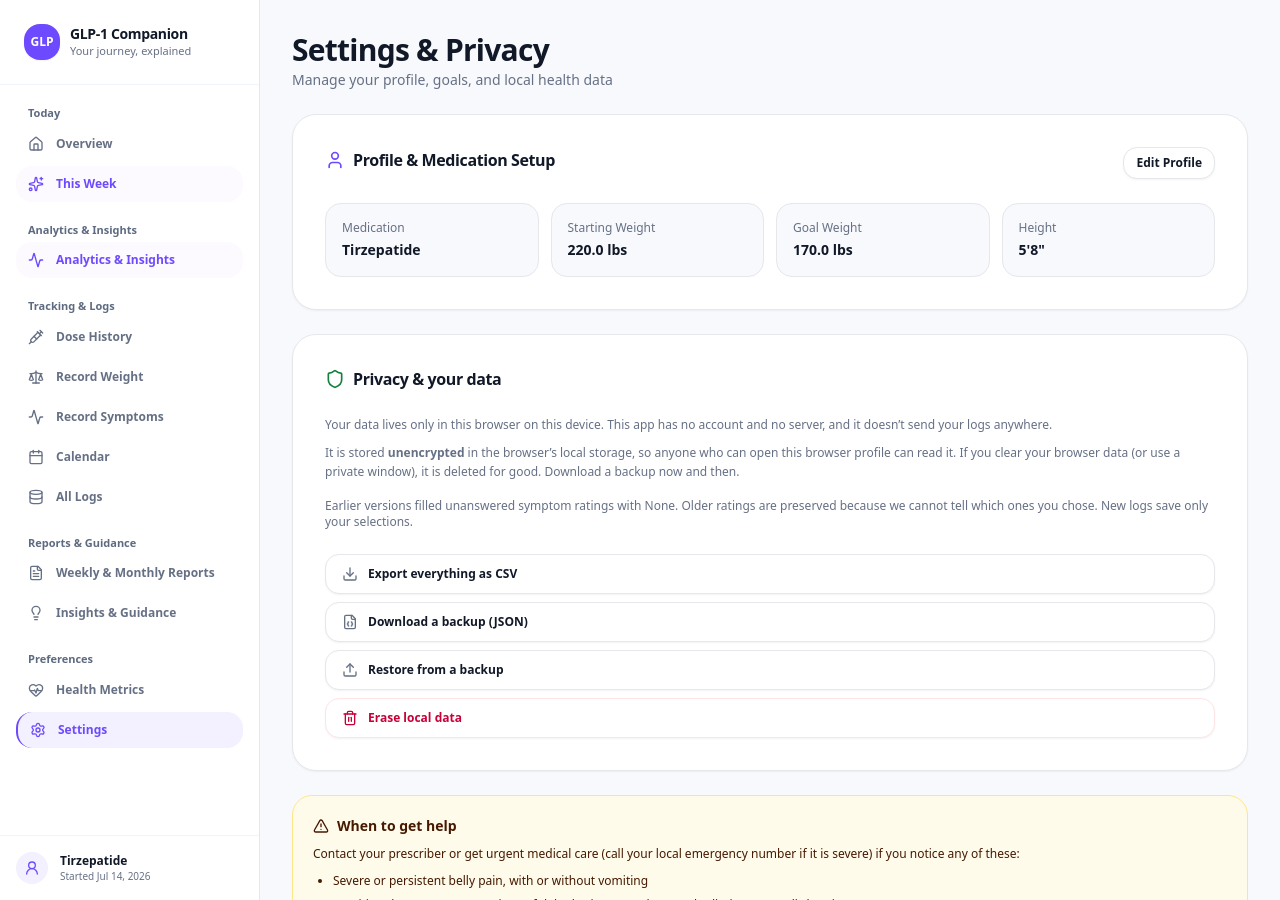
it: erase data › asks for confirmation, then returns to onboarding with empty arrays and cleared storage
Step 1. Click the button "Erase local data" → (415, 717), box left=325, top=698, right=1215, bottom=738
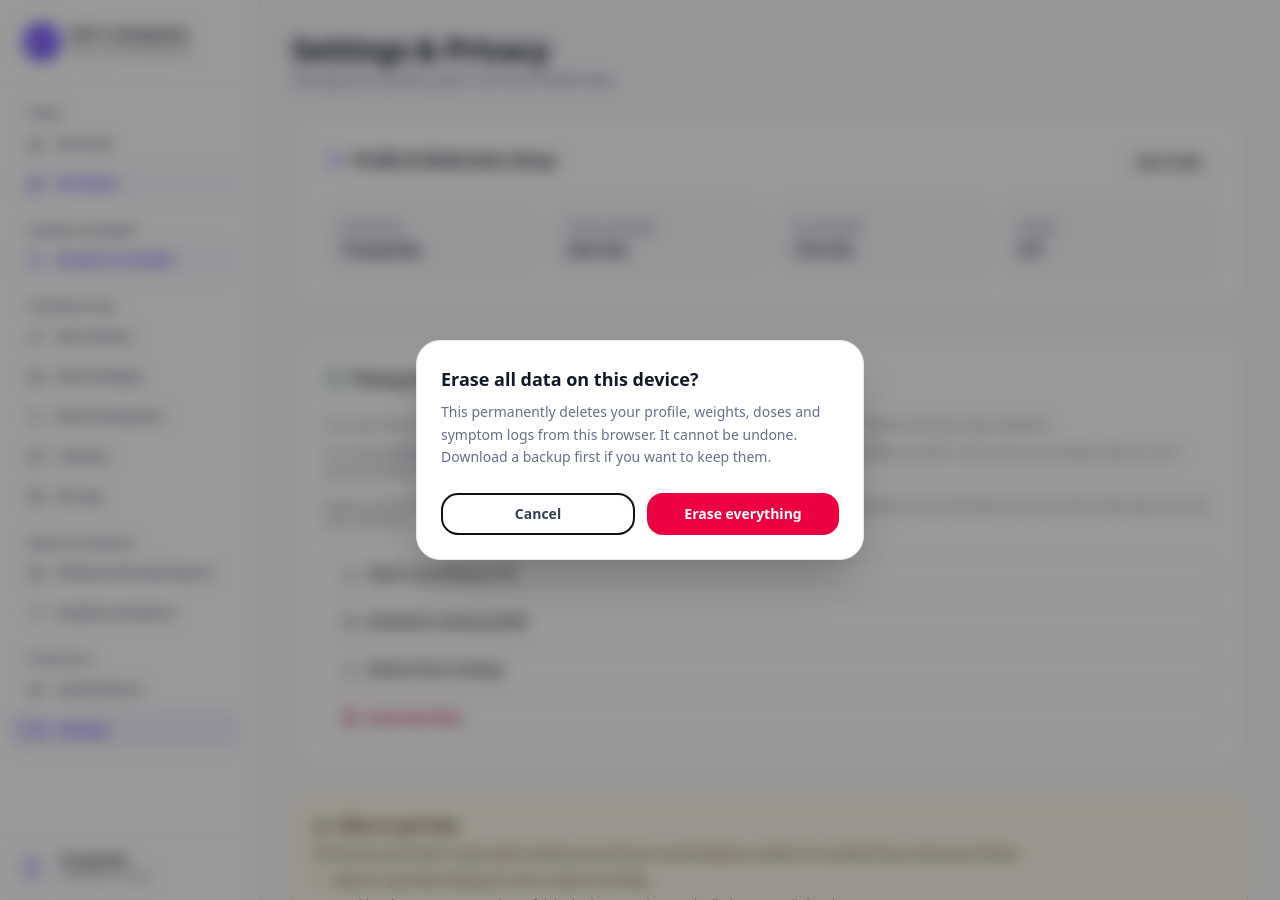
Note: Escape closes without erasing
Step 2. Press Escape
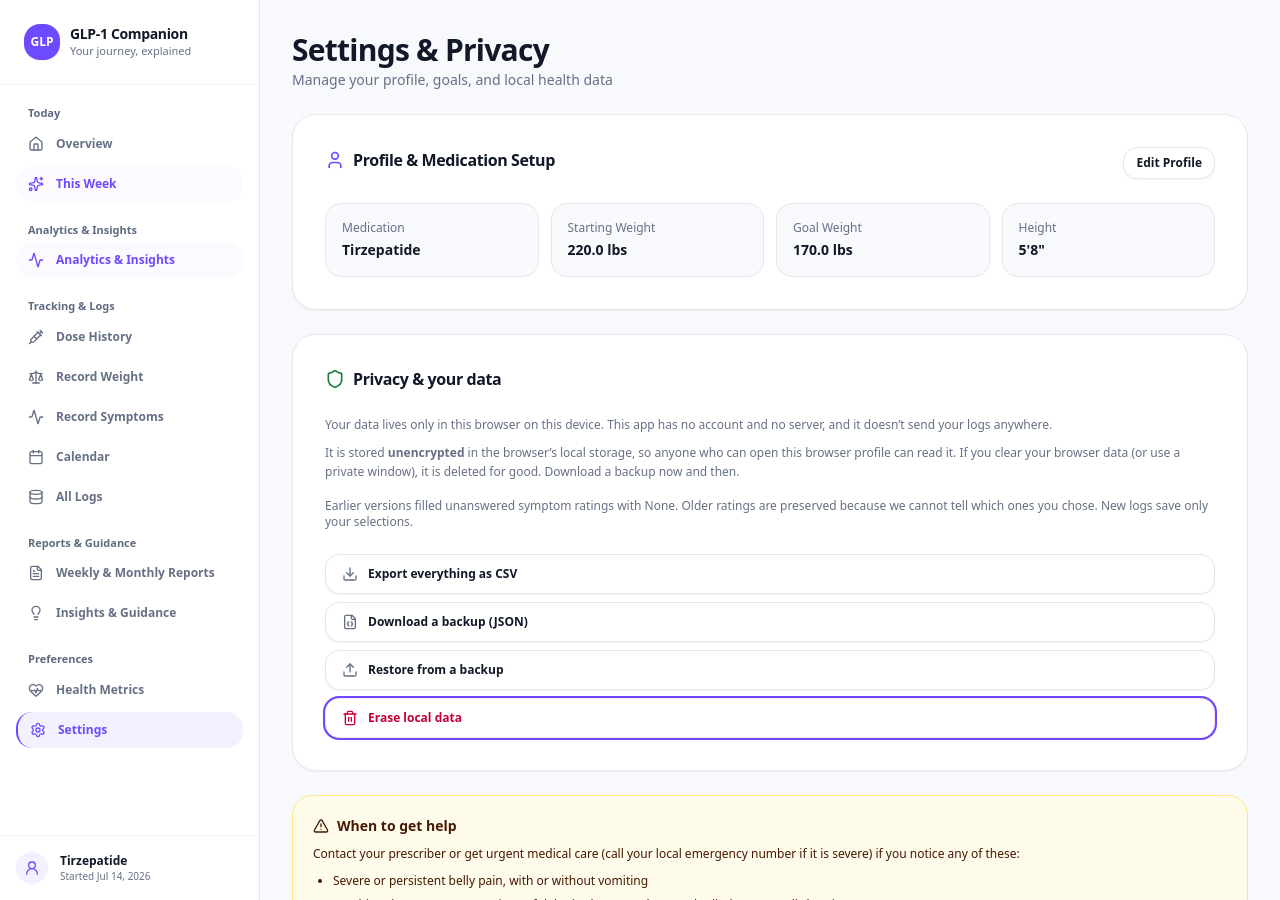
Now the dialog is gone
Step 3. Click the button "Erase local data" → (415, 717), box left=325, top=698, right=1215, bottom=738
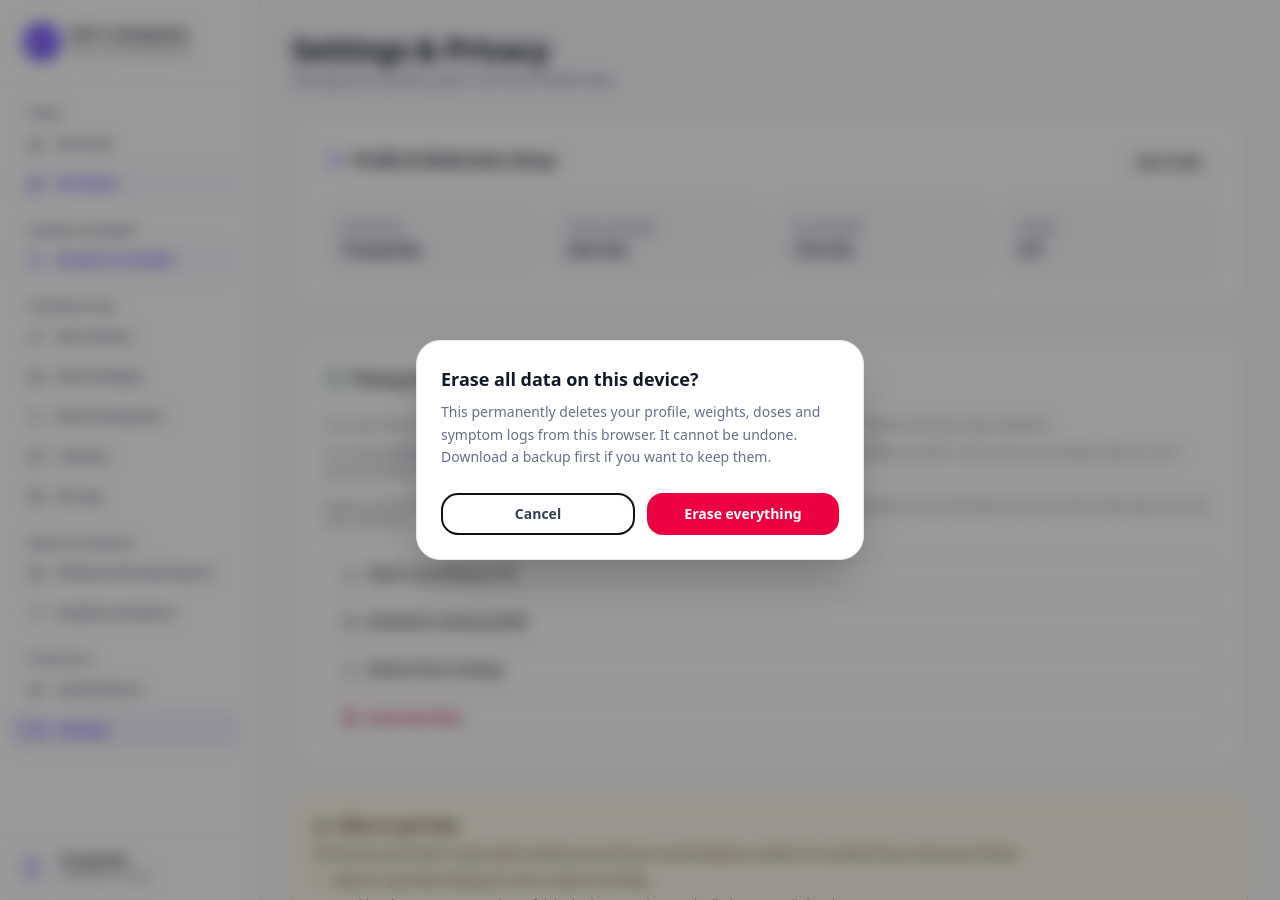
Step 4. Click the button "Erase everything" → (743, 514), box left=647, top=493, right=839, bottom=535
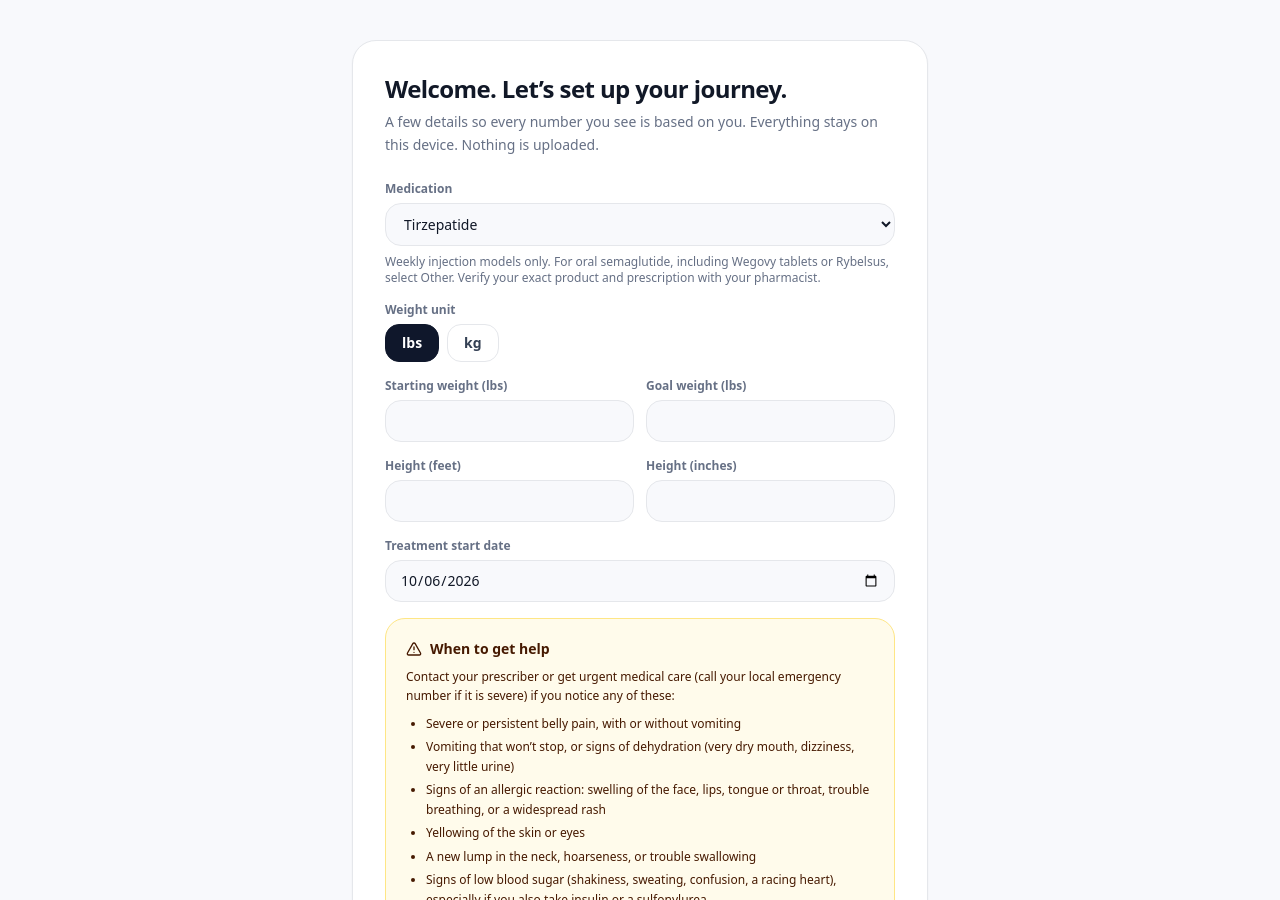
Now the heading "Welcome. Let’s set up your journey." is shown, box left=385, top=72, right=787, bottom=105
